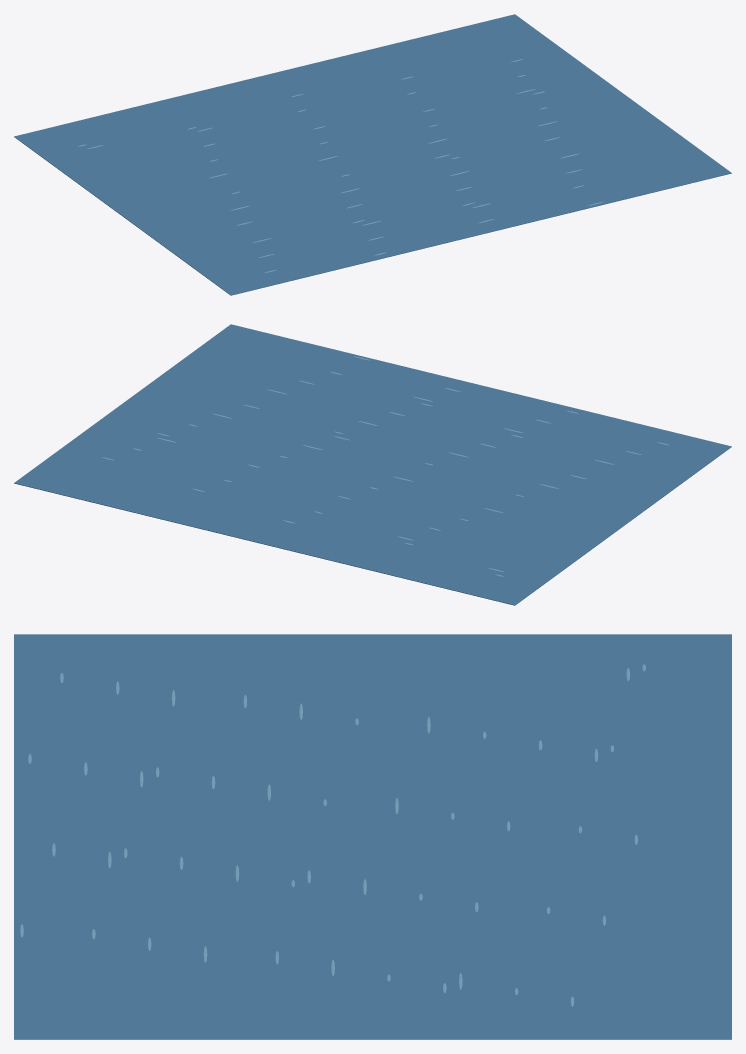
Rendered from mar_frio.glb.
3 renders of one model, top to bottom at view 1: azimuth 30°, elevation 25°; view 2: azimuth 150°, elevation 25°; view 3: azimuth 270°, elevation 25°, orthographic. The views are drawn at different scales.
Visible parts, largest first — view 1: mar_frio; view 2: mar_frio; view 3: mar_frio.
Part boxes in pixels (box(x1,y1,x2,y2)): mar_frio: box(14, 14, 731, 295); mar_frio: box(14, 324, 731, 605); mar_frio: box(14, 634, 731, 1039).
Bounding box in the file's own units: 120 × 0.153 × 90.
